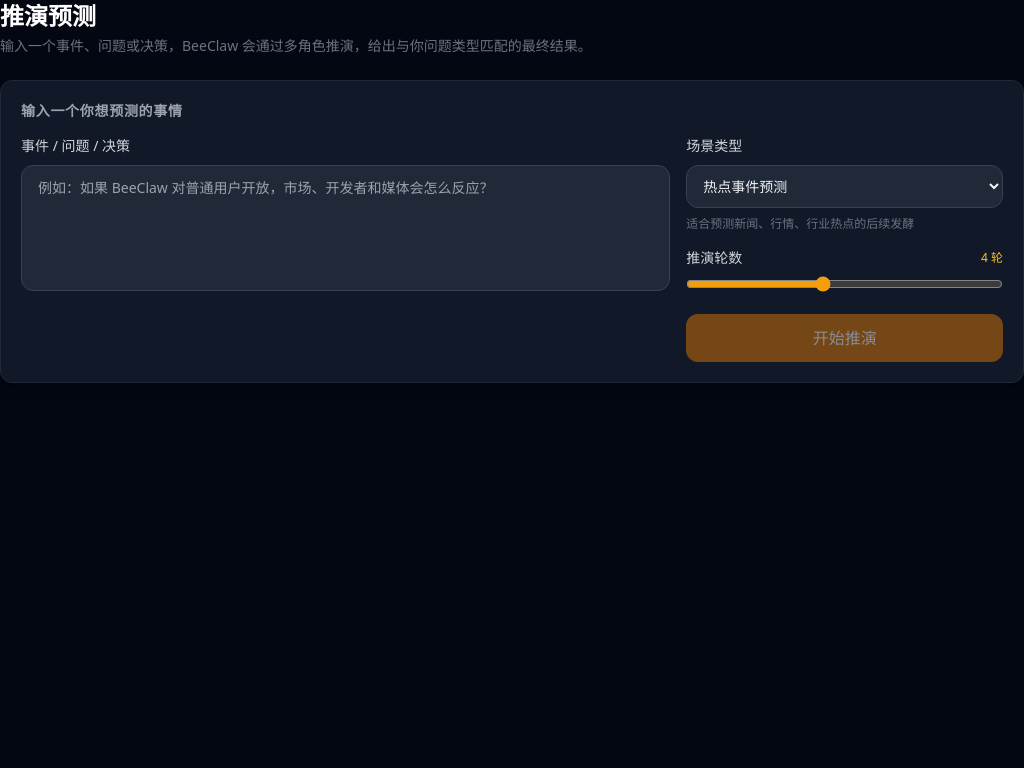
Scenario: ForecastPage › 应该按 questionType 显示 directAnswer 标签并展示区间
Step 1. Type "2027 年黄金每克多少钱？" into the text box with placeholder "例如：如果 BeeClaw 对普通用户开放，市场、开发者和媒体会怎么反应？" → (346, 228), box top-left (21, 165), bottom-right (670, 291)
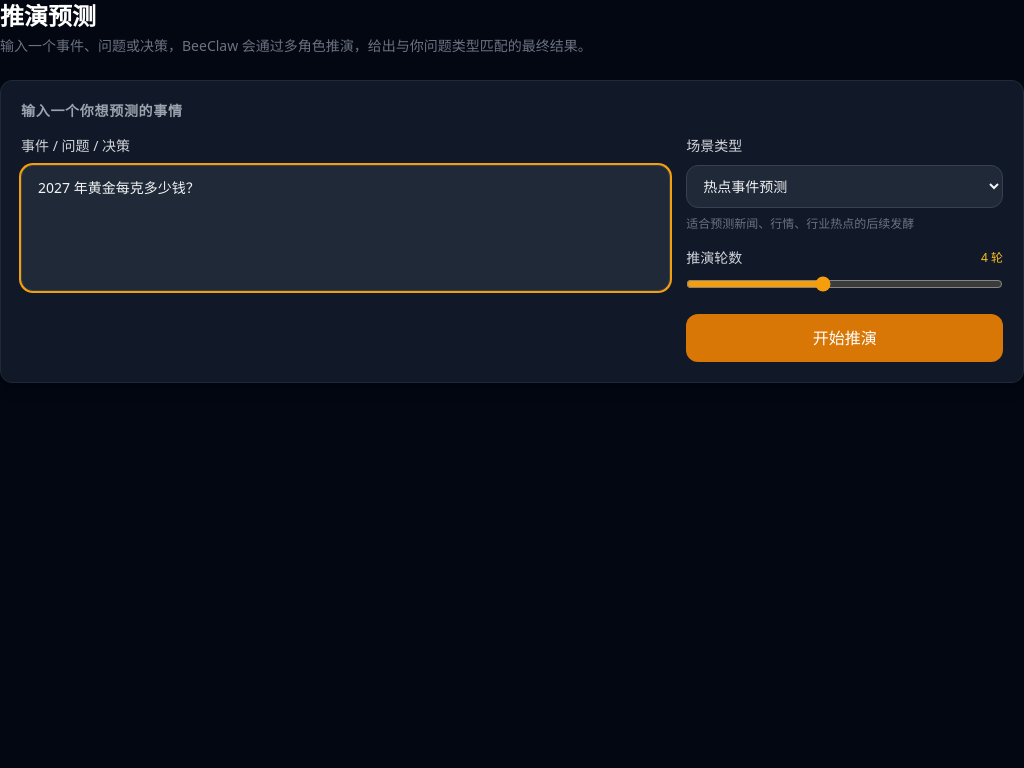
Step 2. Click the button "开始推演" → (845, 338), box top-left (686, 314), bottom-right (1003, 362)
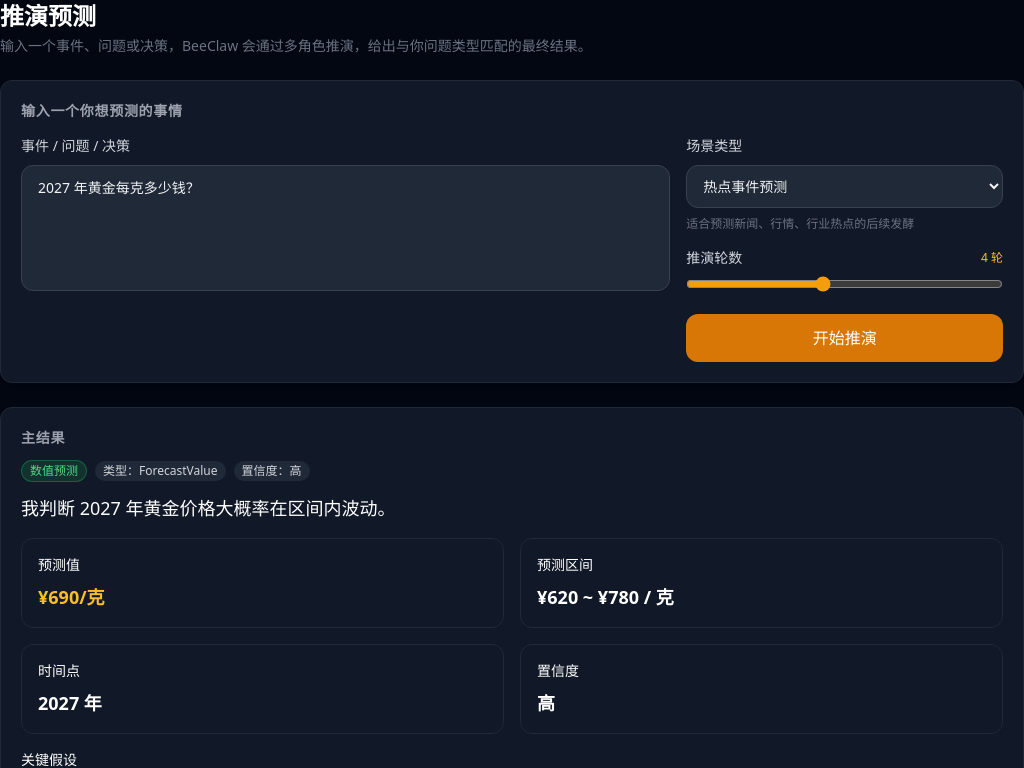
expect the text "数值预测" is shown: met, box top-left (21, 460), bottom-right (87, 482)
expect the text "类型：ForecastValue" is shown: met, box top-left (95, 461), bottom-right (226, 481)
expect the text "预测值" is shown: met, box top-left (38, 555), bottom-right (80, 574)
